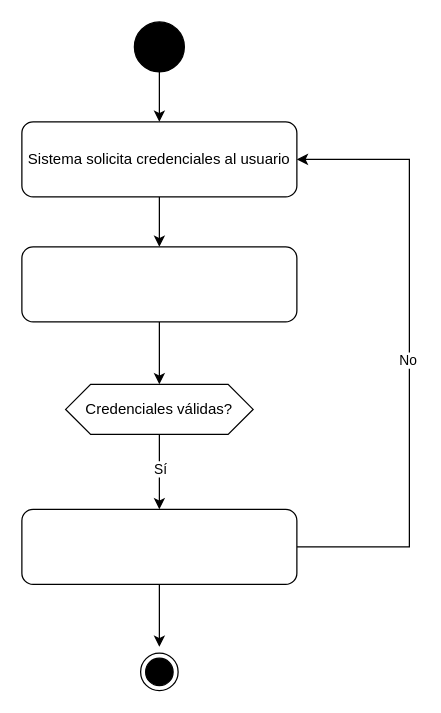
This 441x713 diagram has some shape labels left out. Each missing label, with the box of its shape:
Se redirige al usuaio hacia la pantalla correspondiente: (21, 508, 297, 584)
Sistema valida credenciales: (21, 246, 297, 322)
